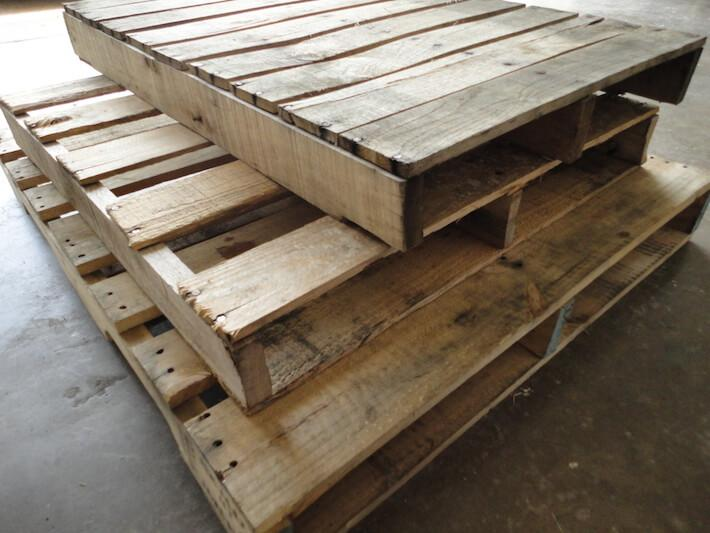wood: (11, 1, 699, 513)
